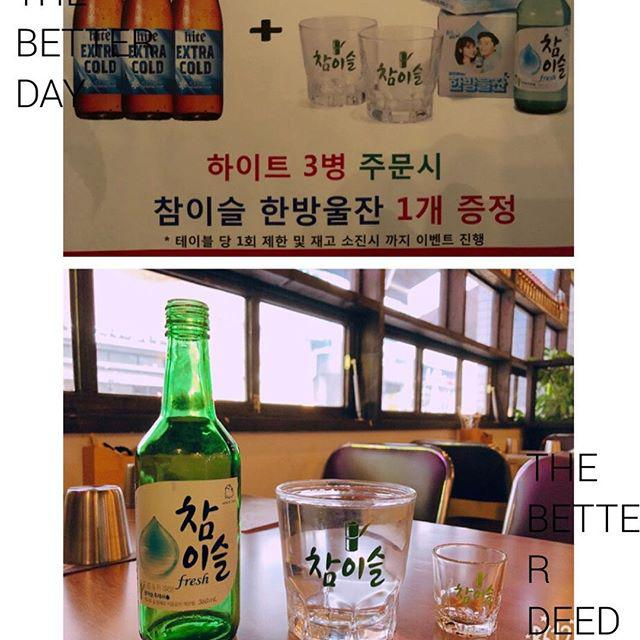soju: (120, 296, 247, 638)
